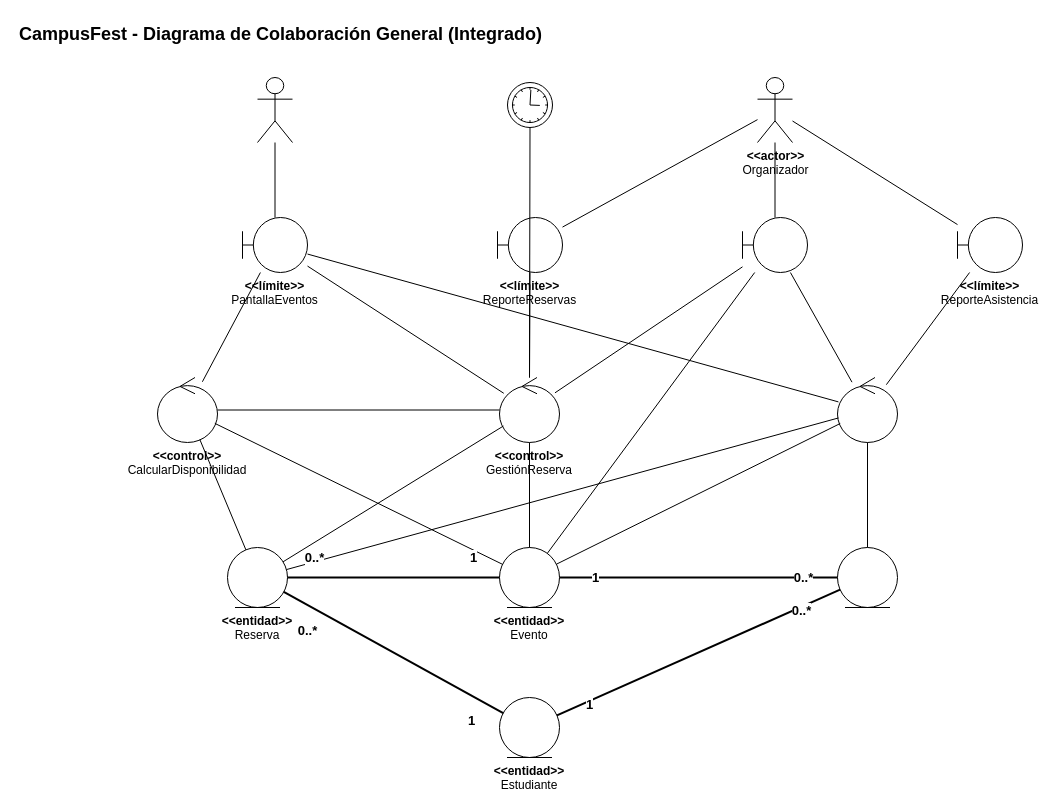
The diagram is 1055 pixels wide and 810 high, and some of its shapes have lost their labels. Each missing label, with the box of its shape:
<<actor>> 10 mins de una reserva: (506, 82, 552, 128)
<<actor>> Estudiante: (256, 76, 292, 142)
<<control>> GestiónAsistencia: (836, 376, 898, 442)
<<entidad>> Asistencia: (836, 546, 898, 608)
<<límite>> InterfazOrganizador: (742, 216, 808, 272)
